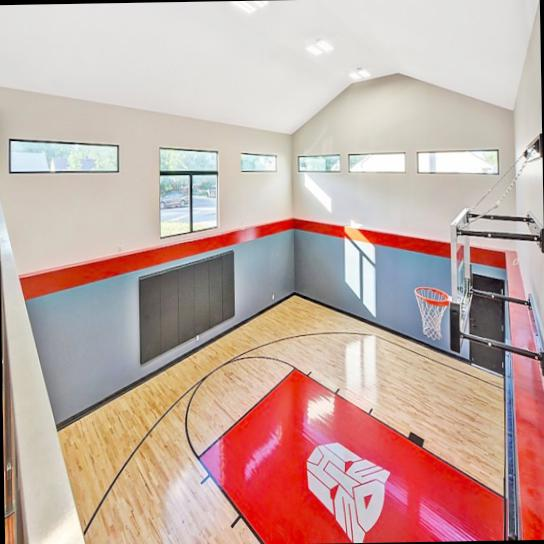basketball-hoop: (412, 280, 449, 340)
